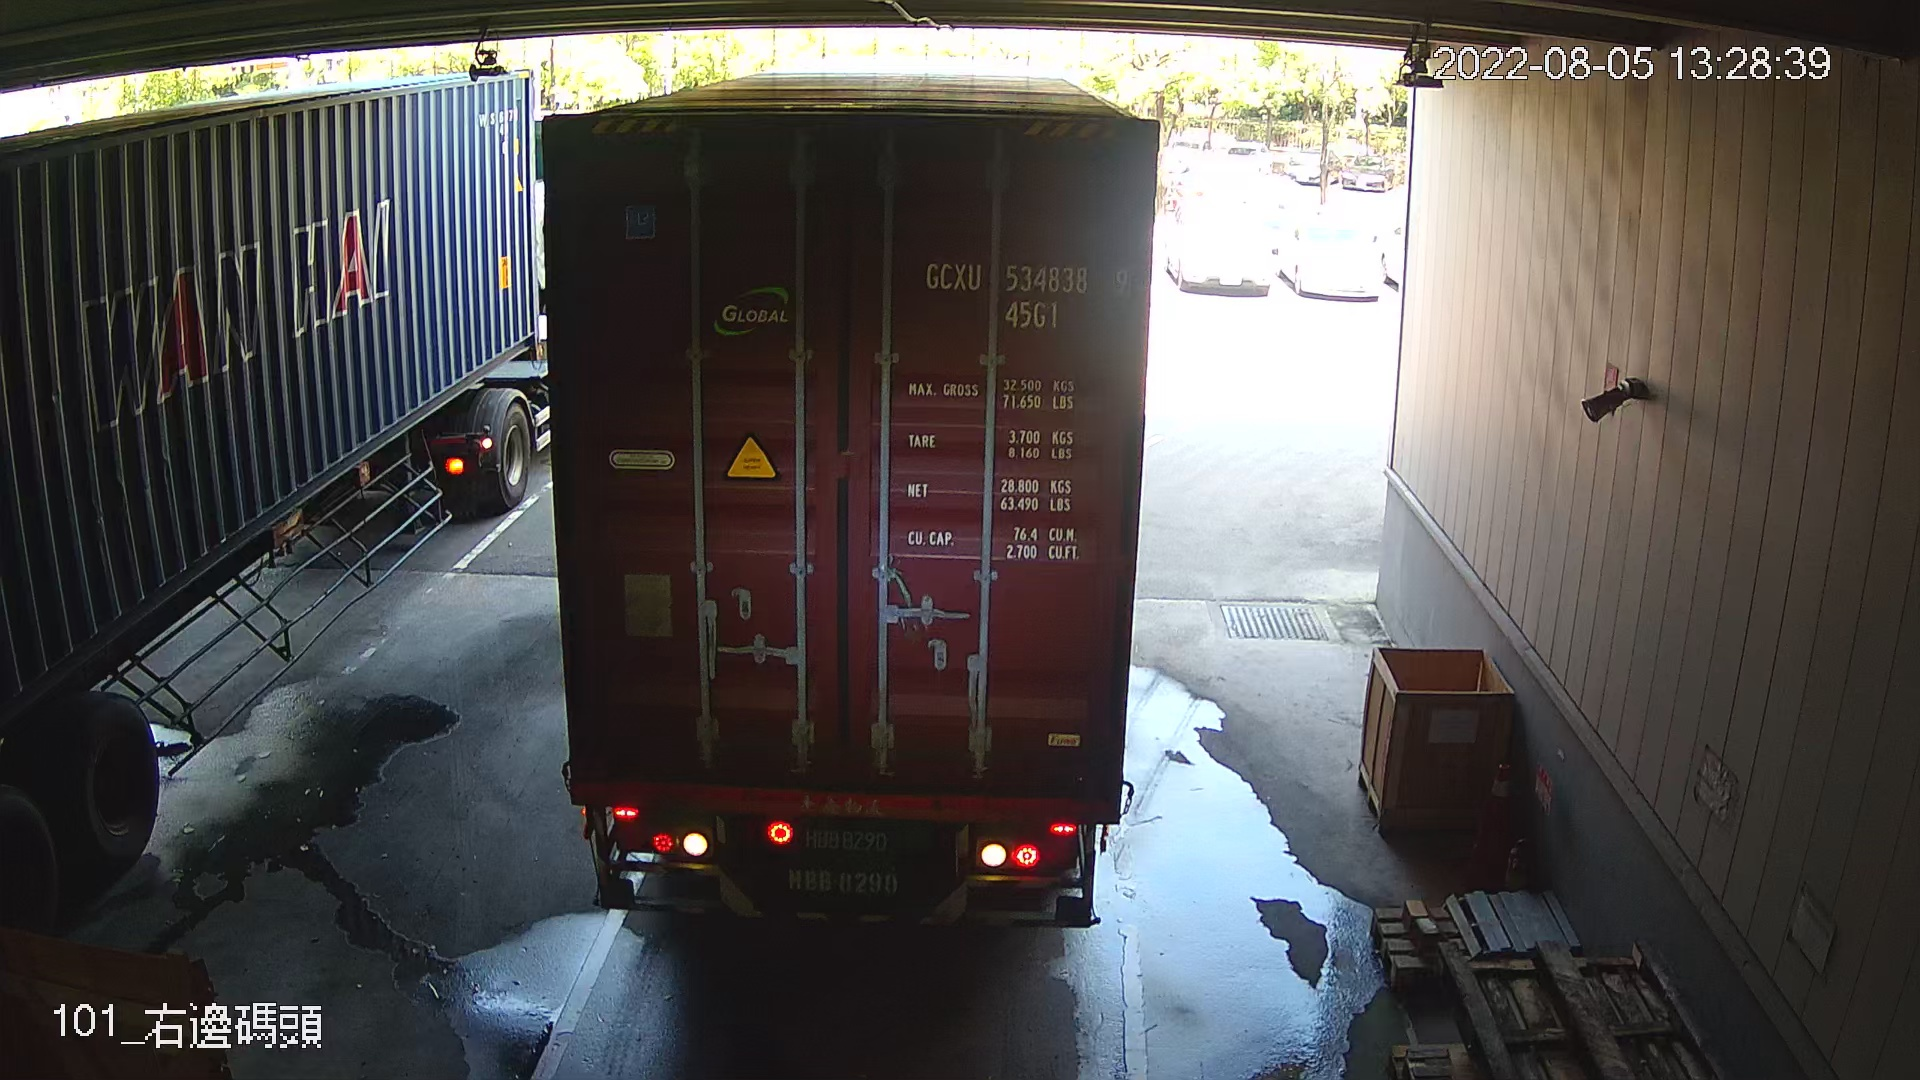container: (916, 247, 1139, 342)
